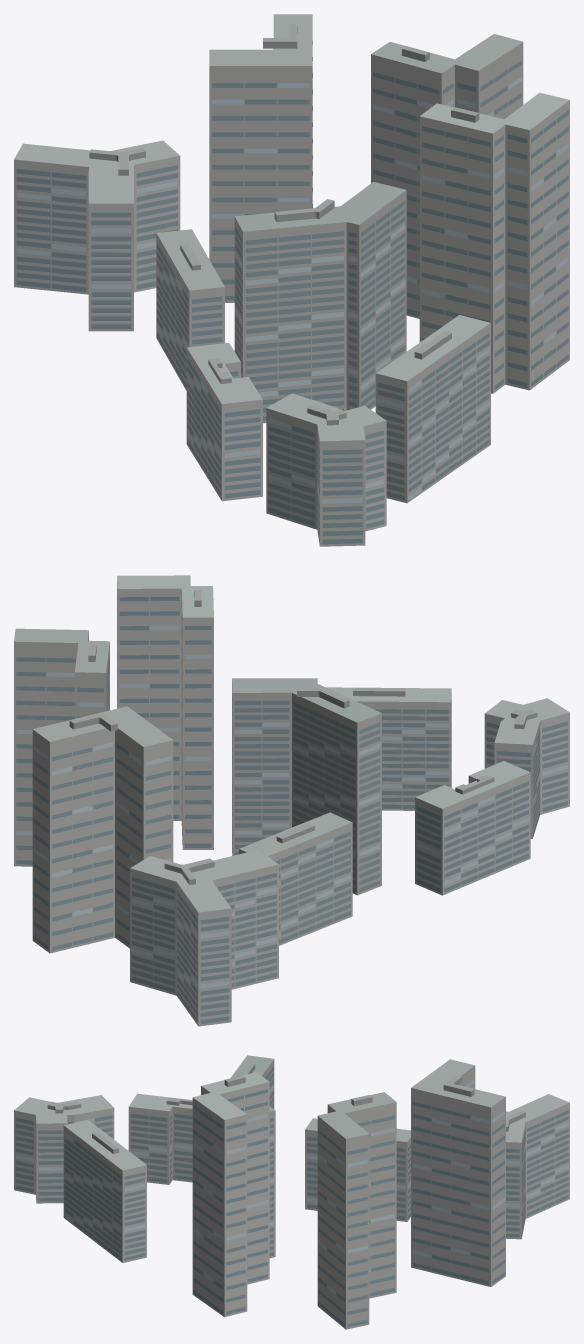
The model's file is apt-a10023715.glb.
3 renders of one model, top to bottom at view 1: azimuth 30°, elevation 25°; view 2: azimuth 150°, elevation 25°; view 3: azimuth 270°, elevation 25°, orthographic. The views are drawn at different scales.
Visible parts, largest first — view 1: apt-a10023715; view 2: apt-a10023715; view 3: apt-a10023715.
Part boxes in pixels (x1=…): apt-a10023715: x1=14, y1=14, x2=569, y2=546; apt-a10023715: x1=14, y1=575, x2=569, y2=1026; apt-a10023715: x1=14, y1=1055, x2=569, y2=1329.
Bounding box in the file's own units: 158 × 92 × 229.
